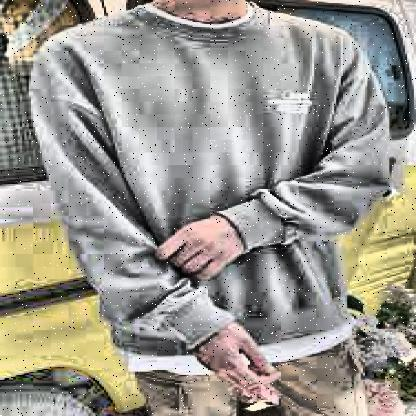short sleeve shirt: (120, 1, 357, 374)
sweater: (29, 5, 394, 358)
trousers: (132, 336, 368, 416)
